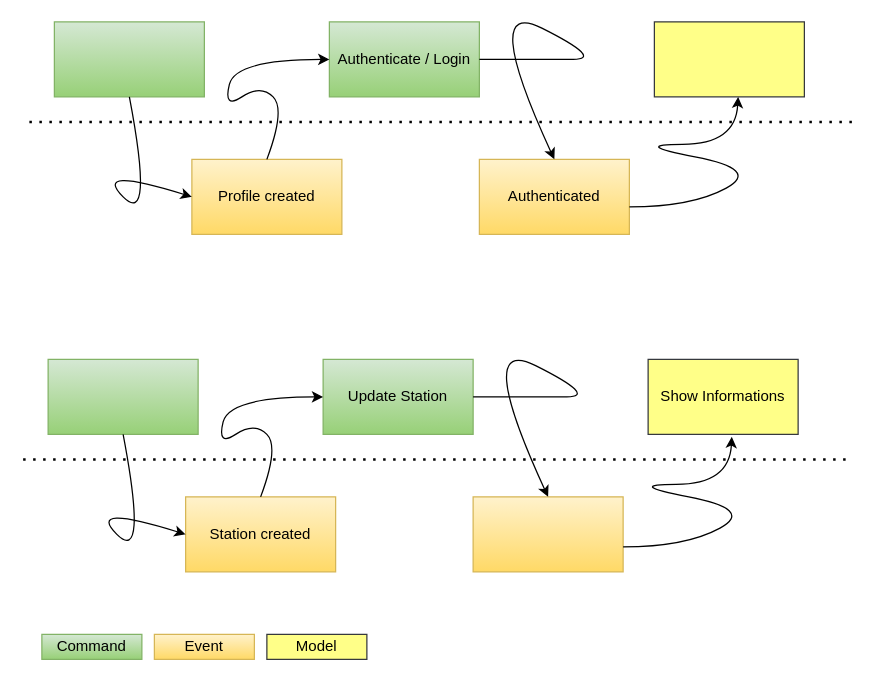
This 878x681 diagram has some shape labels left out. The centre of each missing label's shape, as x and y in pixels:
"Create Charging Station" goes at (122,396).
"Create User Profile" goes at (128,59).
"Station updated" goes at (547,534).
"View Profile" goes at (728,59).
